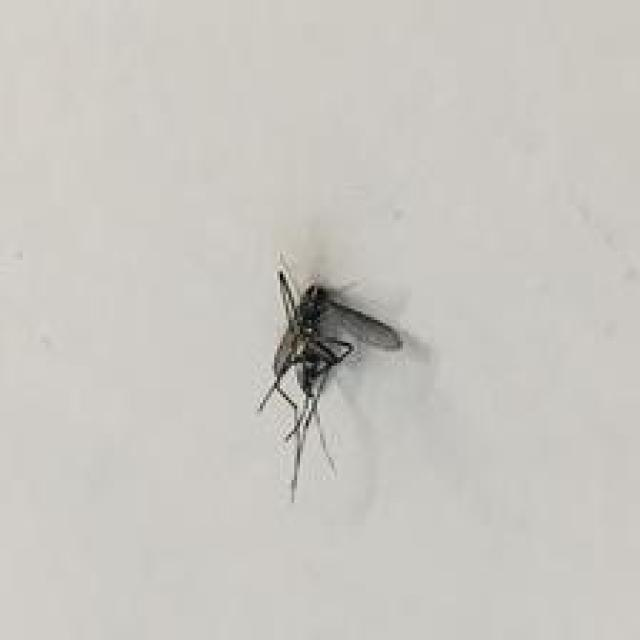Aedes albopictus: (256, 250, 404, 504)
